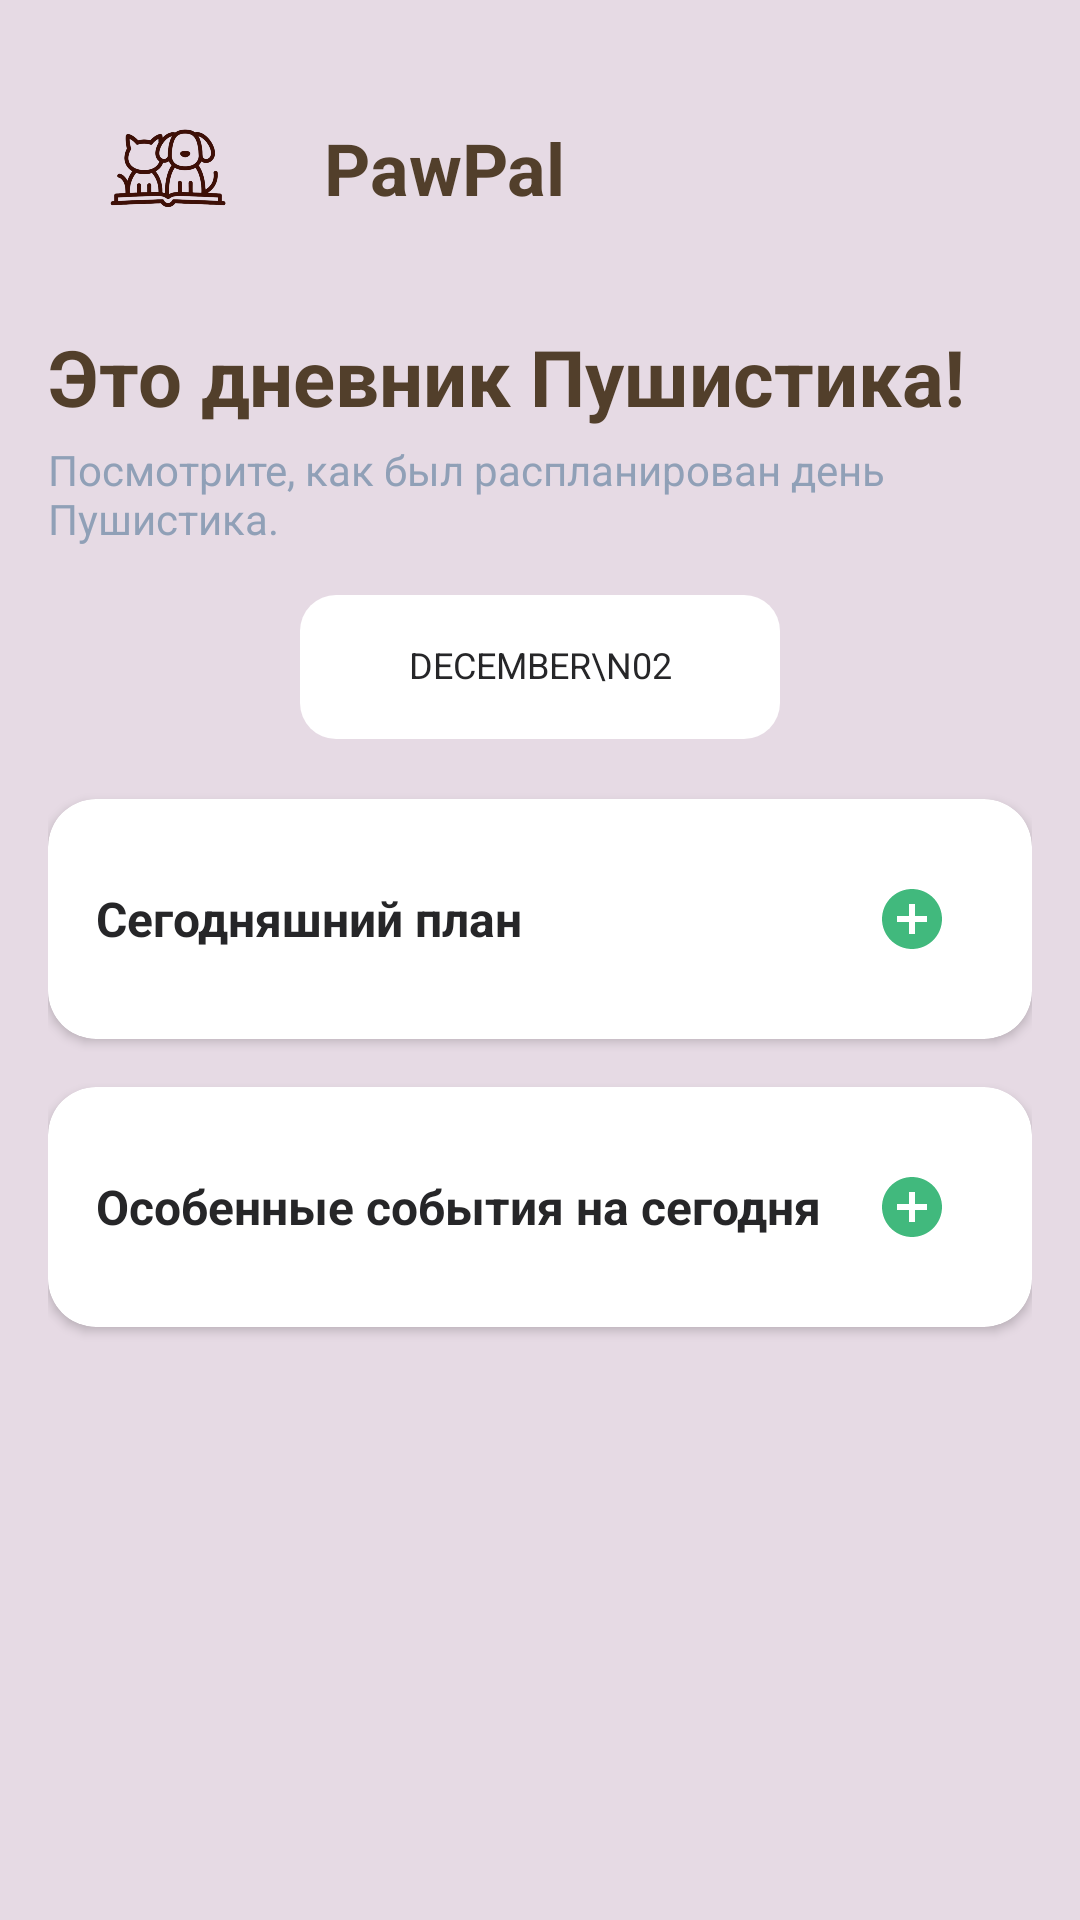

Named icons in this screenshot (1080x1920) and their bounding boxes, (left=x1, top=y1, right=x2, bottom=y2):
Добавить: (left=882, top=889, right=942, bottom=949), (left=882, top=1177, right=942, bottom=1237)
